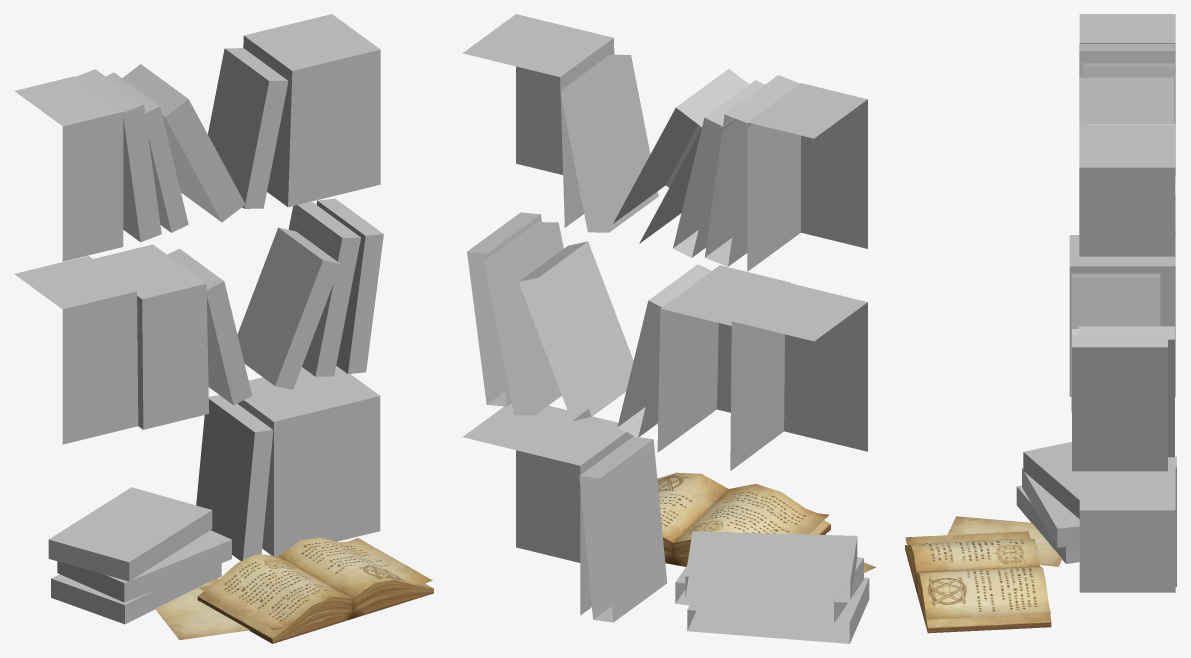
File: Cupboard_Preset_07.FBX
3 views of the same model, side by side, from view 1: azimuth 30°, elevation 25°; view 2: azimuth 150°, elevation 25°; view 3: azimuth 270°, elevation 25° (orthographic). The views are drawn at different scales.
Parts seen in each view (by area): view 1: Cupboard_Preset_07; view 2: Cupboard_Preset_07; view 3: Cupboard_Preset_07.
Boxes of the visible parts, box(x1,y1,x2,y2) form: Cupboard_Preset_07: box(14, 14, 433, 643); Cupboard_Preset_07: box(463, 14, 875, 643); Cupboard_Preset_07: box(905, 14, 1176, 633).
Bounding box in the file's own units: 113 × 84.86 × 165.
